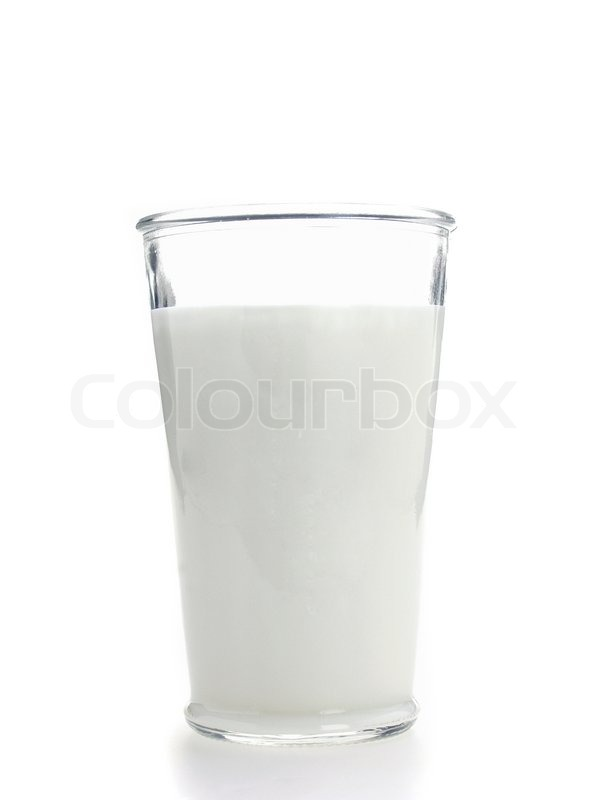glass of milk: (141, 212, 443, 740)
